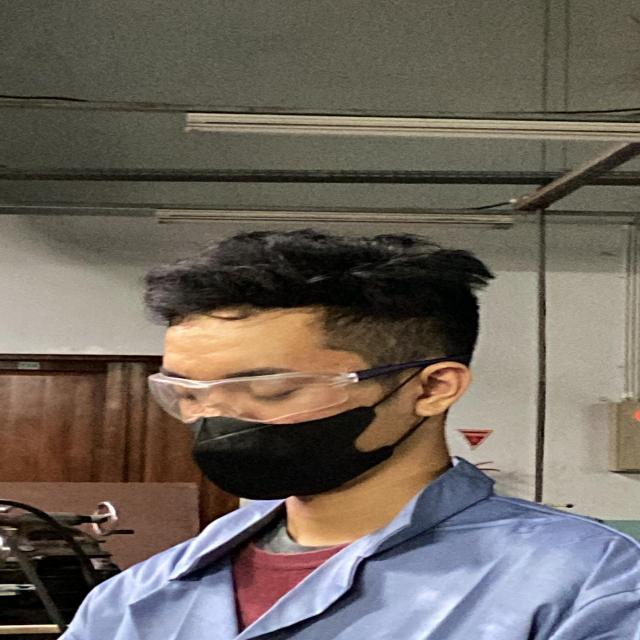face_mask: (134, 342, 388, 493)
glasses: (134, 352, 473, 424)
head_nohelmet: (131, 236, 462, 348)
